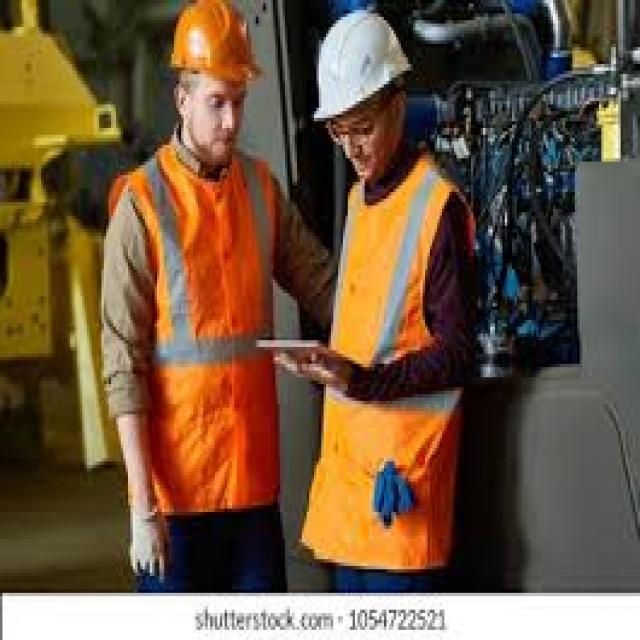Reflective-Jacket: (106, 145, 290, 529), (314, 148, 481, 408)
Safety-Helmet: (304, 7, 416, 131), (161, 1, 268, 94)
